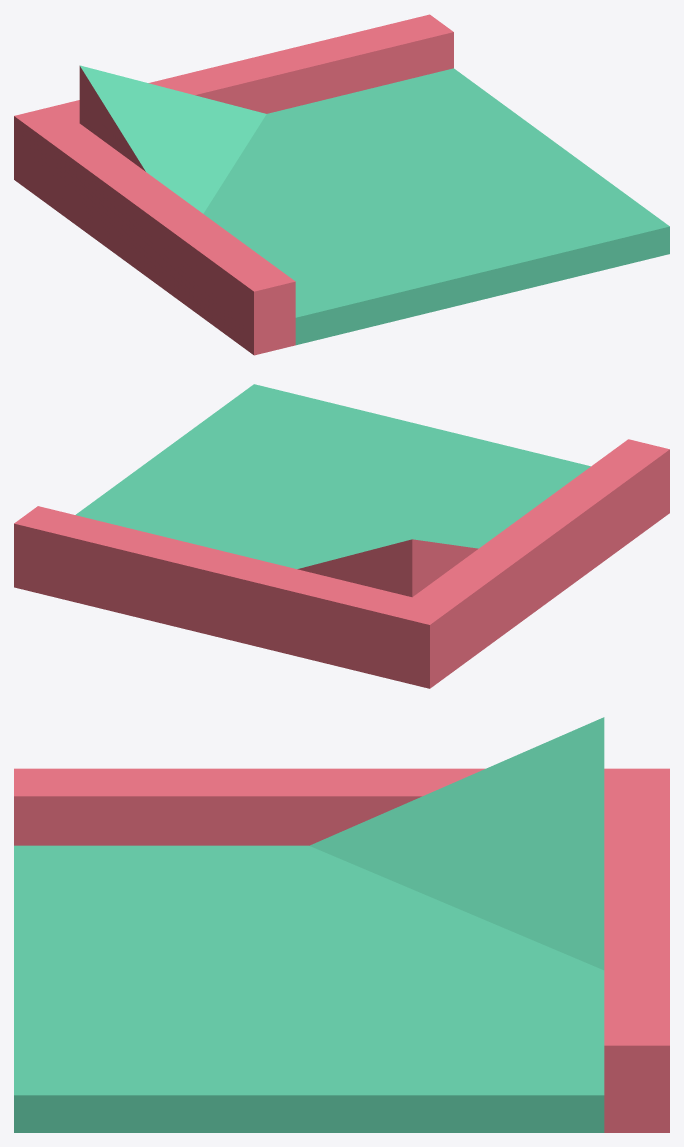
The model's file is hillCorner.glb.
The picture shows the model from 3 angles, top to bottom: view 1: azimuth 30°, elevation 25°; view 2: azimuth 150°, elevation 25°; view 3: azimuth 270°, elevation 25°; orthographic projection. The views are drawn at different scales.
Visible parts, largest first — view 1: hillCorner; view 2: hillCorner; view 3: hillCorner.
Boxes of the visible parts, x1,y1,x2,y2 form: hillCorner: (14,14,669,355); hillCorner: (14,384,669,688); hillCorner: (14,717,669,1132).
Size of the model in its own units: 0.9999 by 0.28 by 0.9999.
